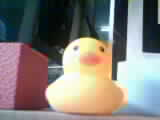duck: (37, 35, 134, 106)
